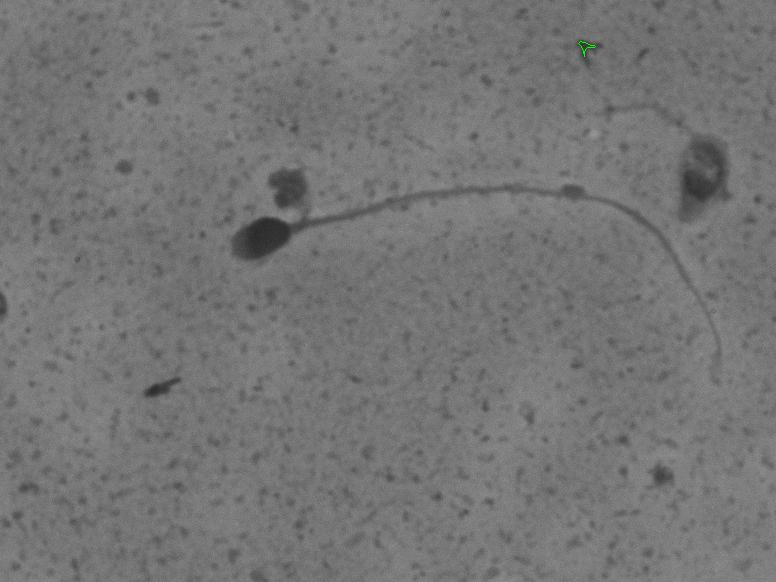Normal: (214, 166, 739, 393)
